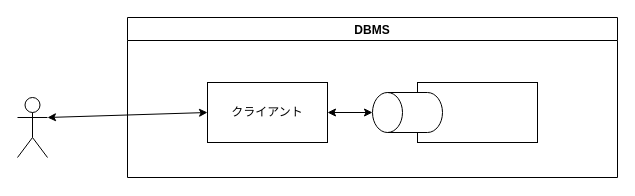
The diagram is 635 pixels wide and 196 high, and some of its shapes have lost their labels. Here are the shapes that lost their labels. From the top down, the centre of each, then its label:
point (32, 127): Actor
point (477, 112): サーバ
